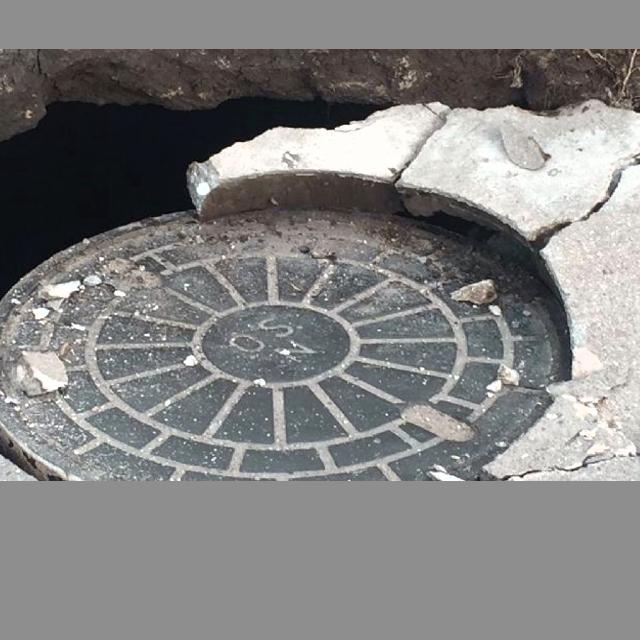circle: (0, 66, 640, 476)
